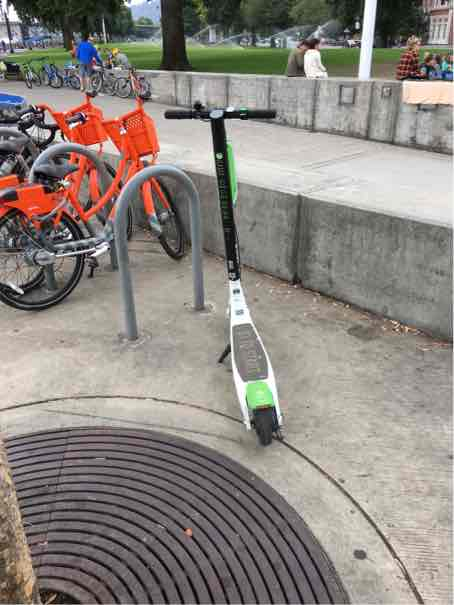scooter: (148, 91, 311, 450)
